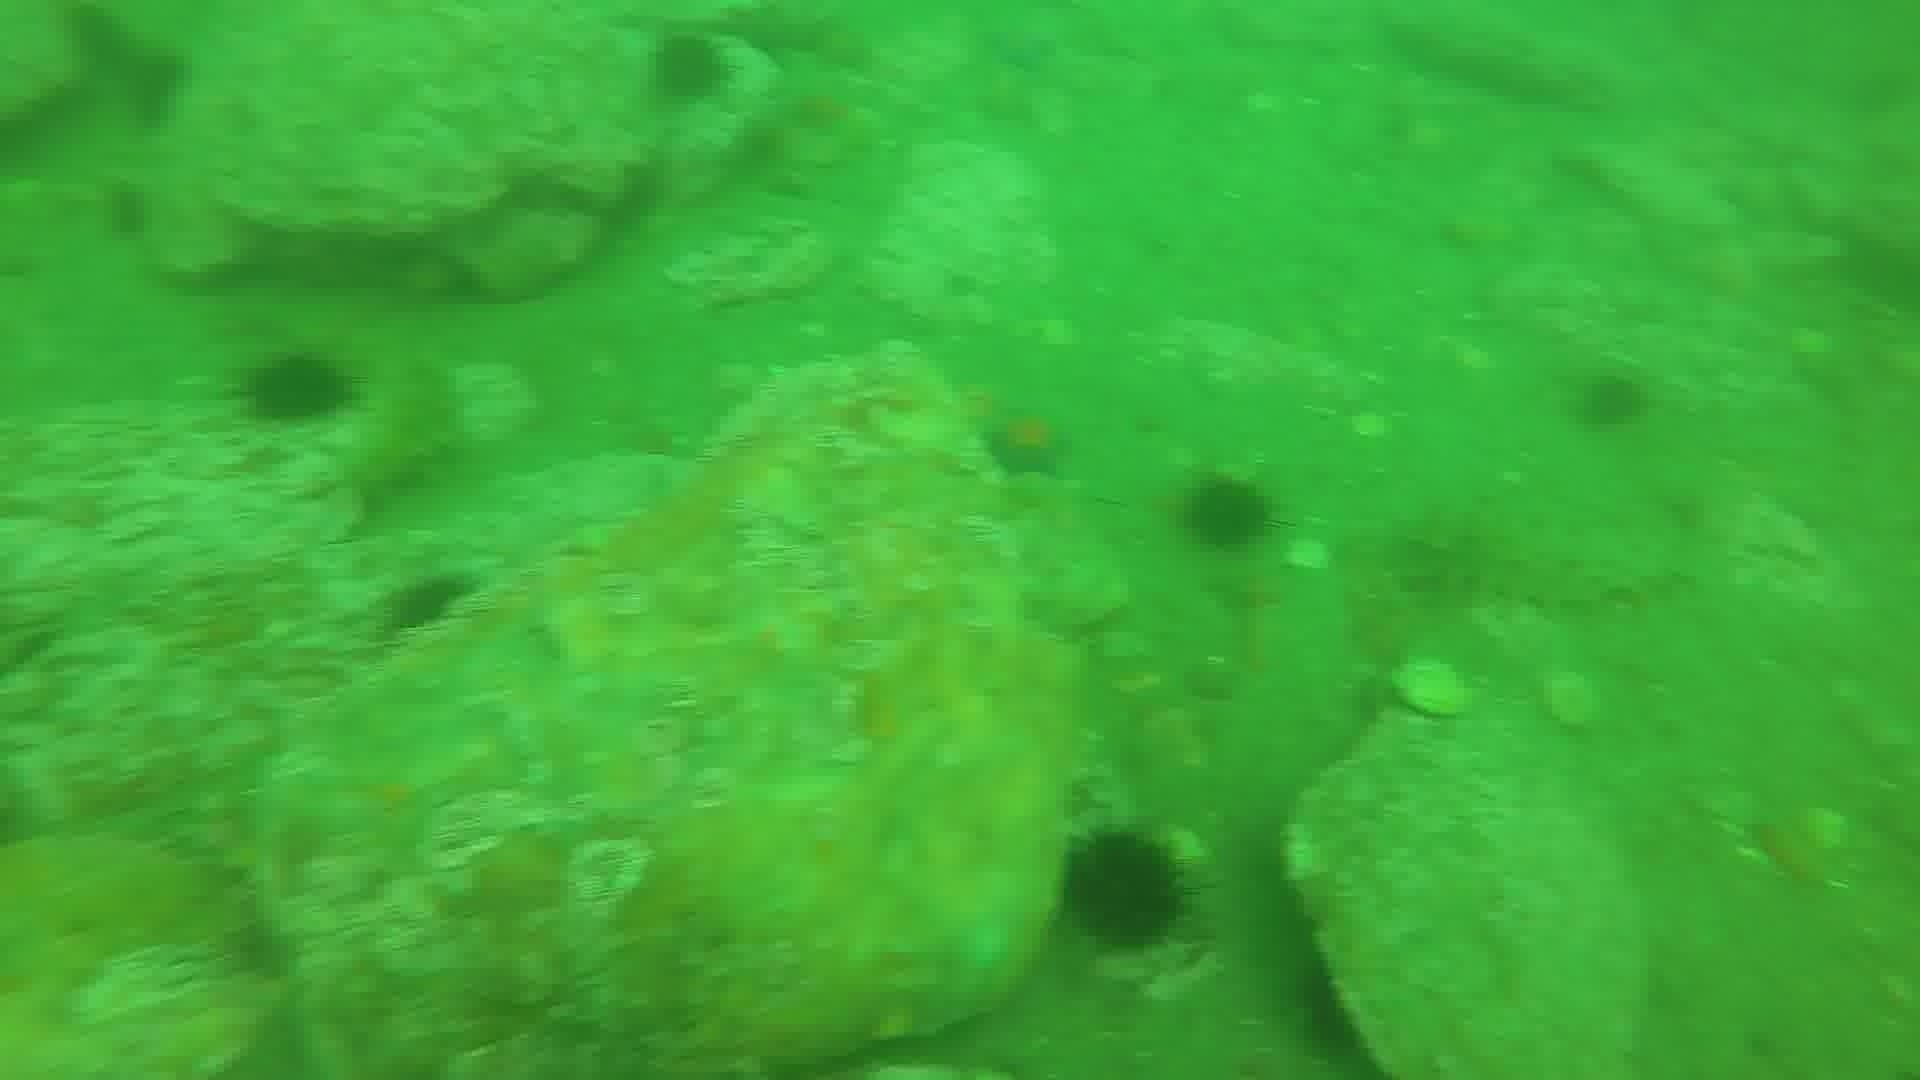echinus: (1058, 823, 1192, 957), (235, 345, 359, 433), (1178, 471, 1280, 556), (375, 568, 480, 644), (644, 29, 733, 108), (1569, 367, 1654, 435)
holothurian: (1383, 502, 1677, 620), (327, 353, 464, 520)
starfish: (977, 400, 1077, 485)
